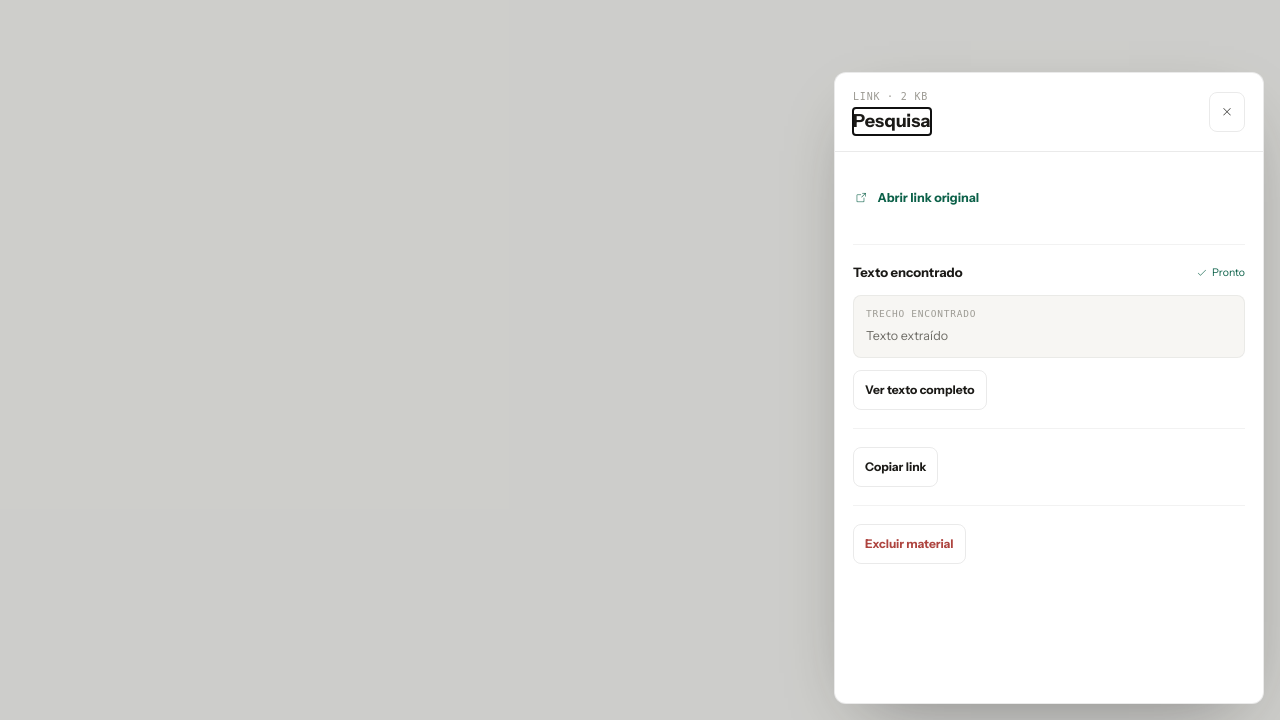
falls back to the compatible browser copy path when Clipboard API is unavailable
The image size is (1280, 720).
Step 1. Click the button "Copiar link" → (896, 467), box [853,447,938,487]
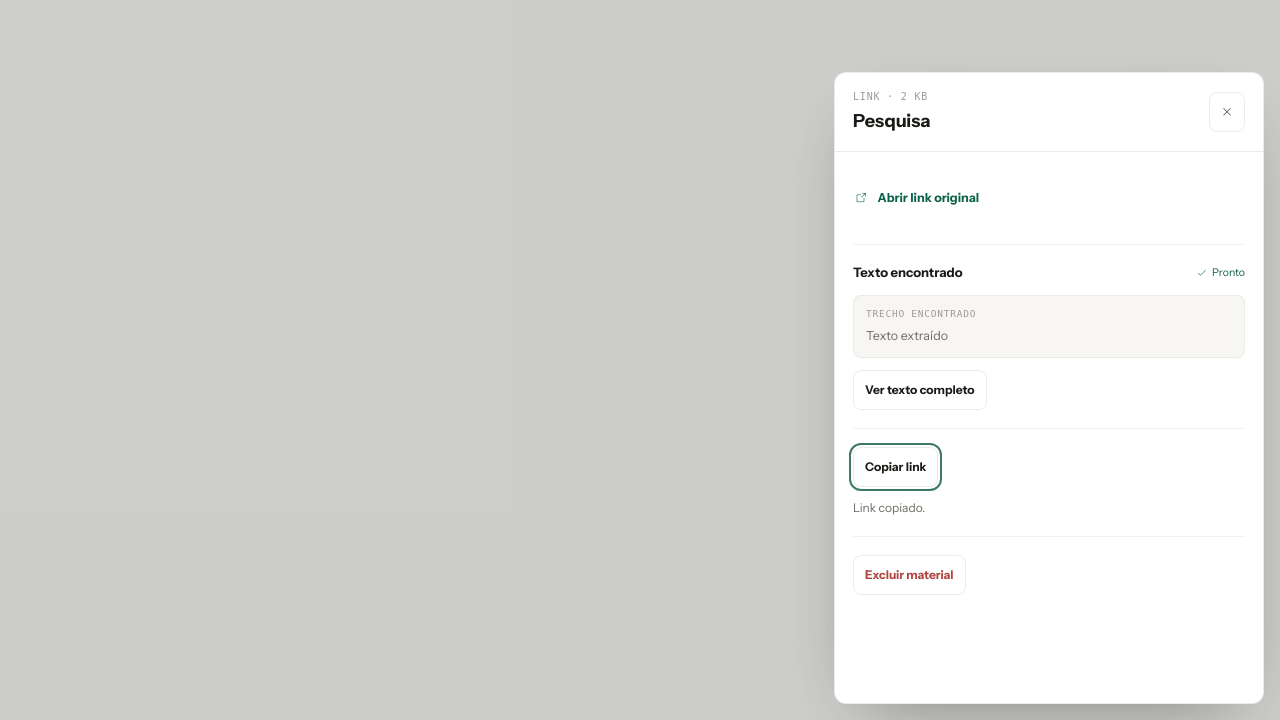
Check: the message shows "Link copiado", box [853,500,925,515]
